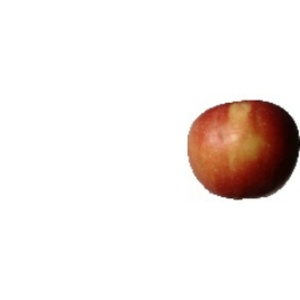maçã braeburn: (184, 97, 299, 200)
